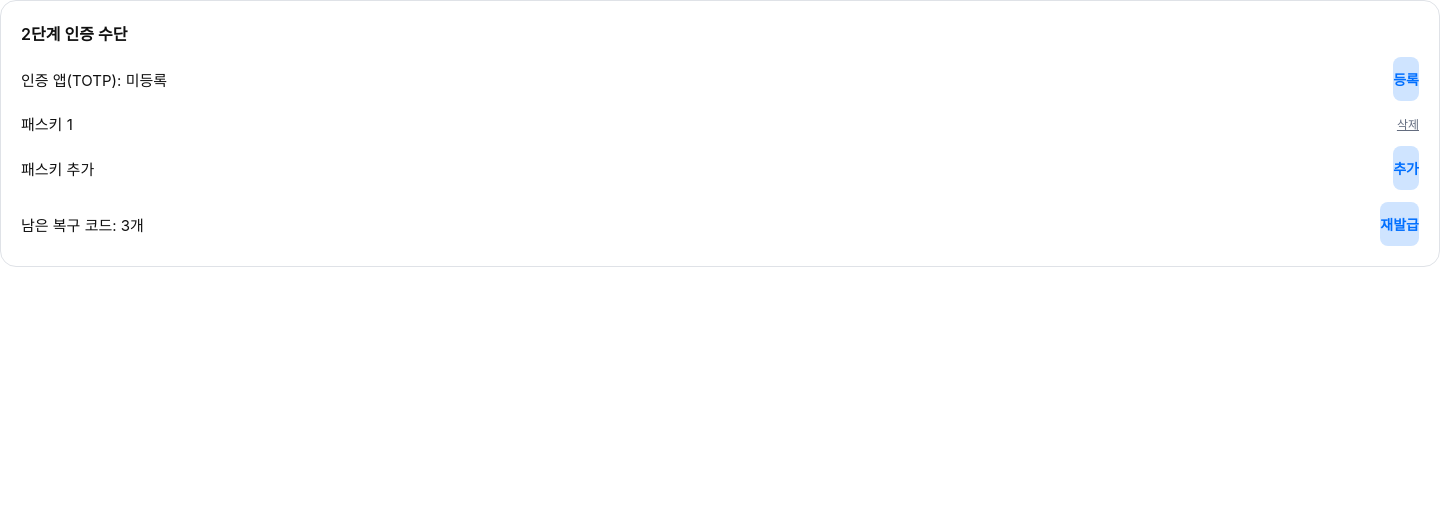
Test case: MfaSettingsCard › completes adding TOTP after password confirmation and shows the issued recovery codes
The image size is (1440, 512).
Click the button "등록" at (1406, 79), box [1393,57,1419,101]
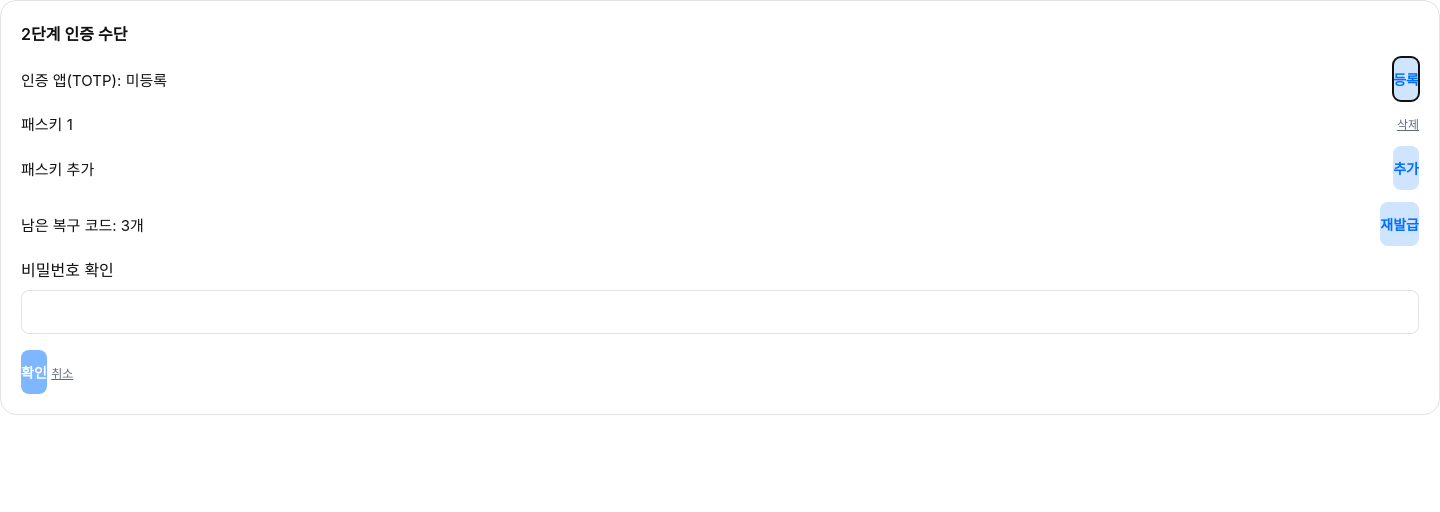
Type "test-key-password" into the password field labelled "비밀번호 확인" at (720, 312), box [21,290,1419,334]
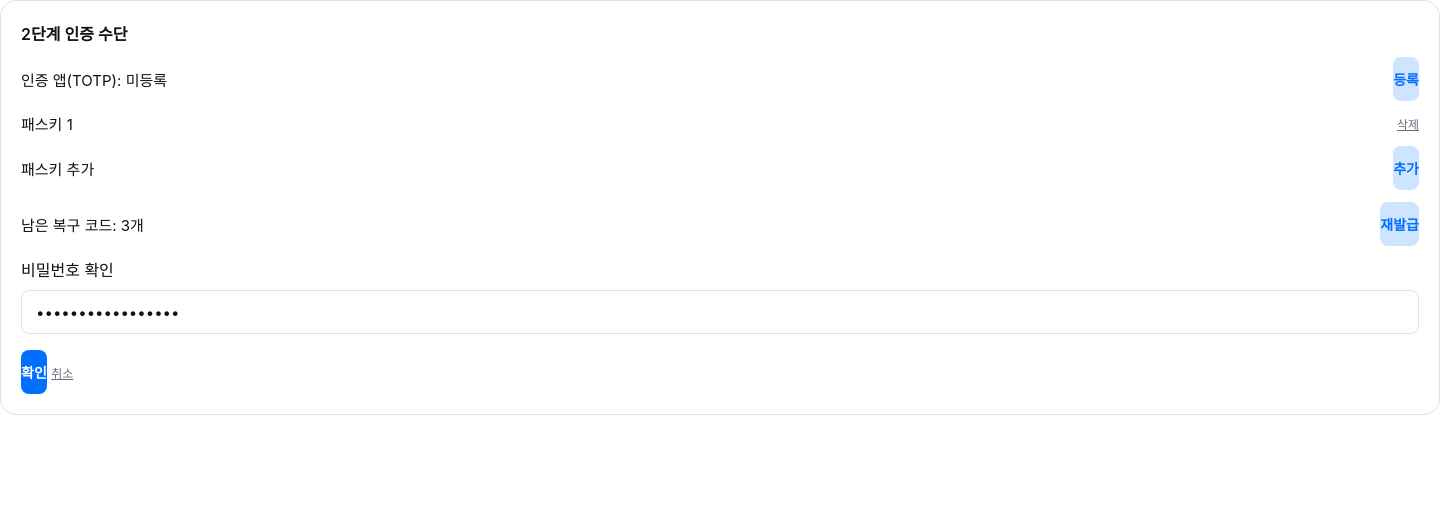
Click the button "확인" at (34, 372), box [21,350,47,394]
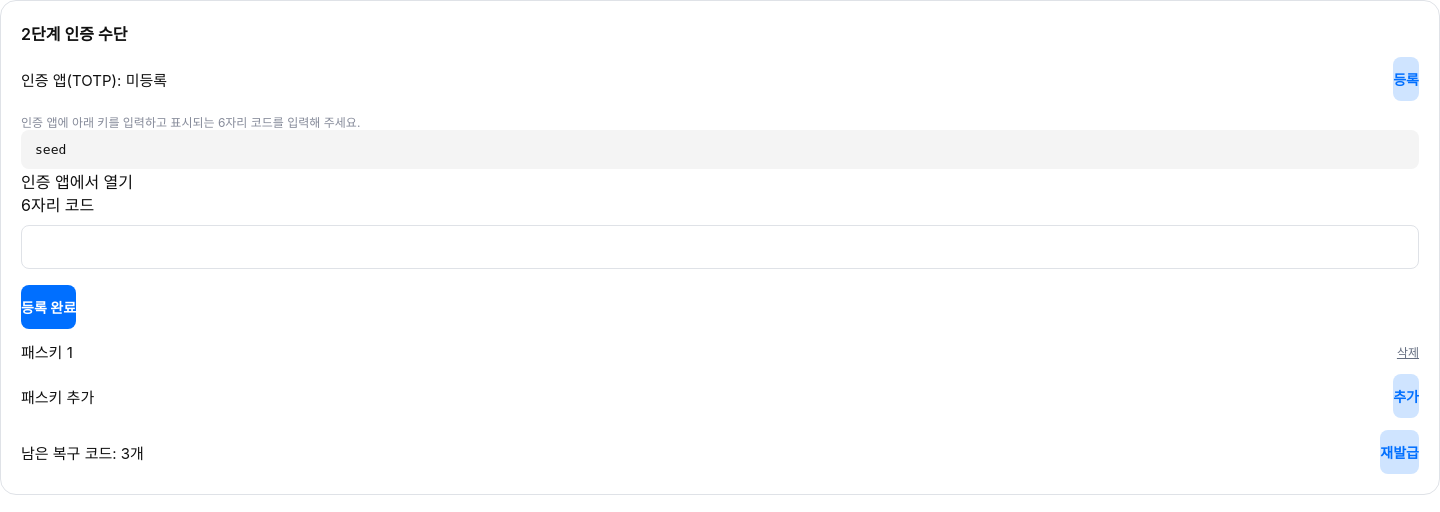
Type "123456" into the field labelled "6자리 코드" at (720, 247), box [21,225,1419,269]
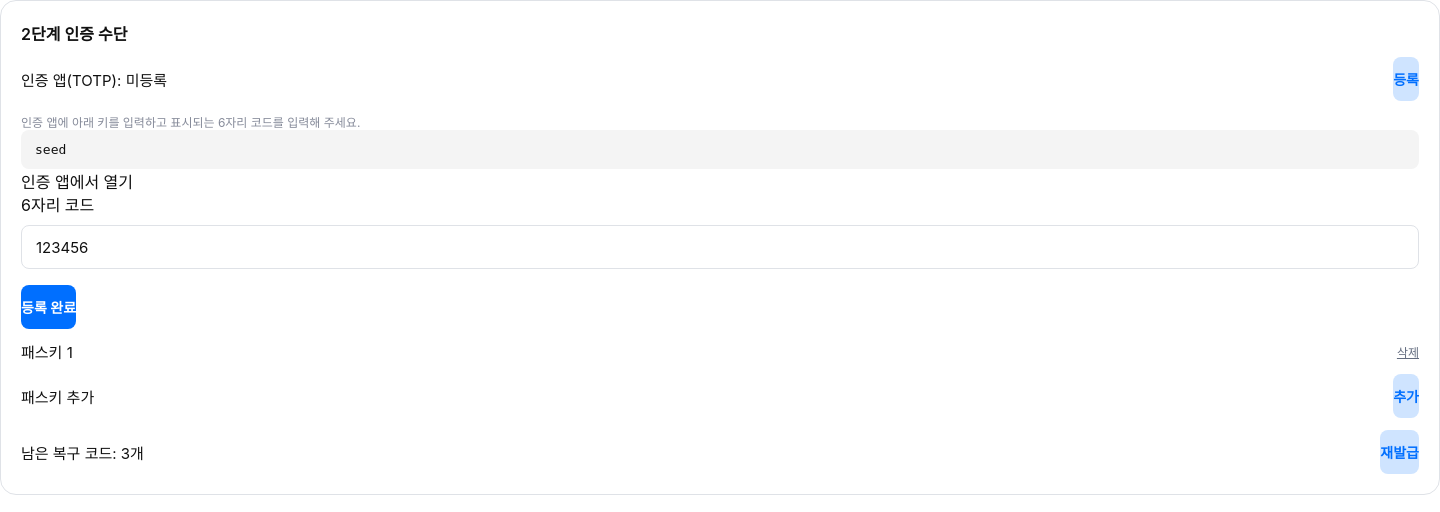
Click the button "등록 완료" at (49, 307), box [21,285,76,329]
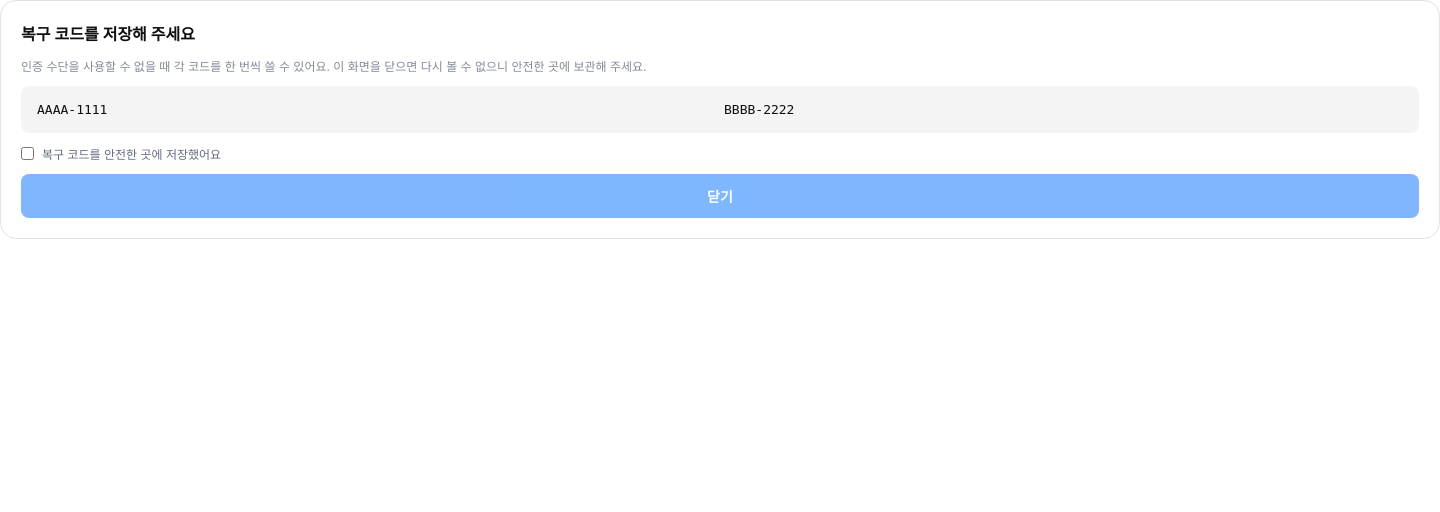
Now the list item "AAAA-1111" is shown, box [37,102,108,117]
